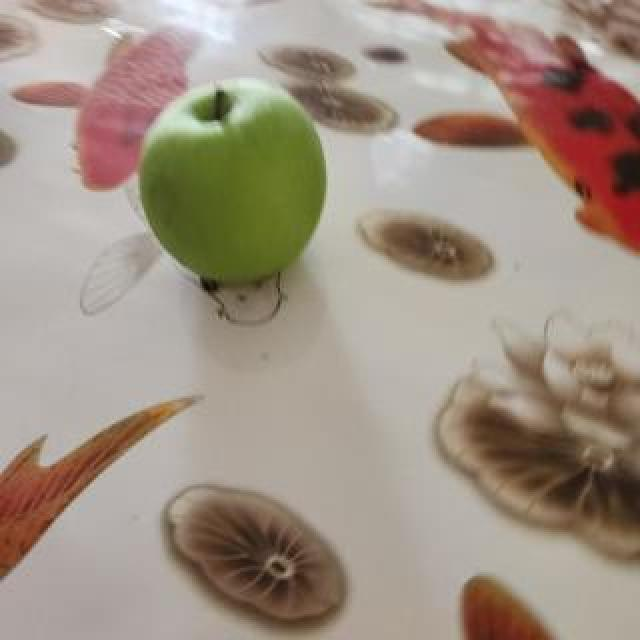Fresh Apple: (144, 91, 327, 282)
